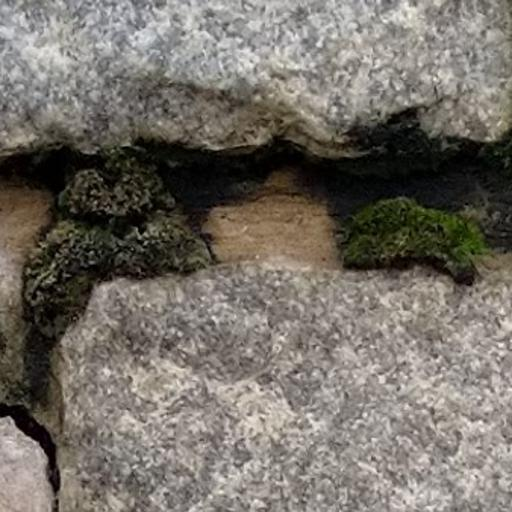algae: (7, 110, 511, 406)
